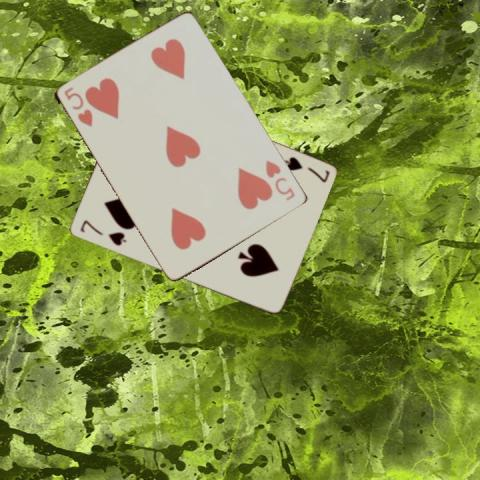5h: (263, 156, 297, 202), (61, 84, 95, 129)
7s: (77, 217, 128, 247), (280, 154, 330, 184)
